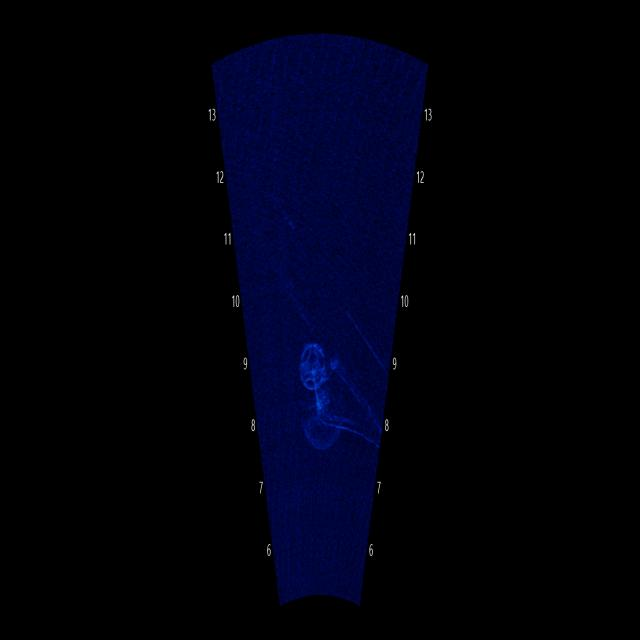circle: (292, 329, 345, 412)
